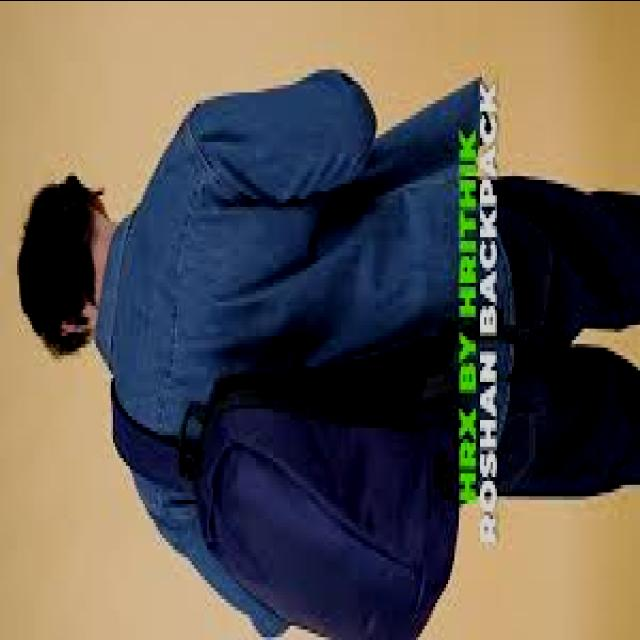backpack: (110, 333, 460, 640)
